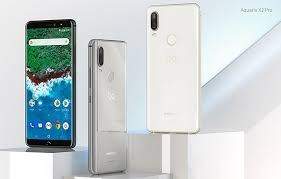vsmart: (141, 5, 205, 134), (23, 15, 78, 150), (78, 36, 125, 174)
